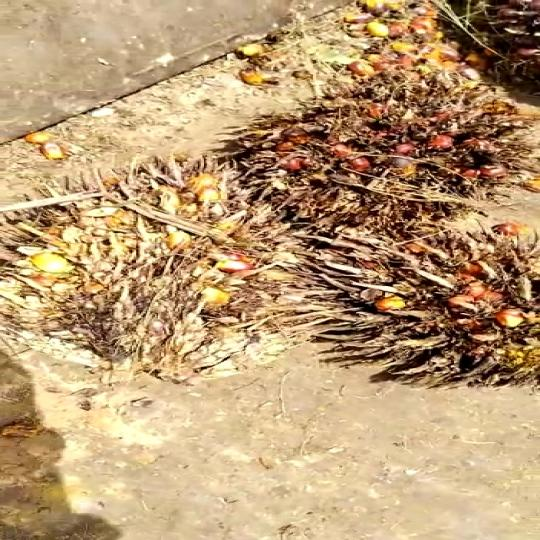terlalu masak: (0, 159, 311, 385), (216, 68, 540, 239), (287, 216, 540, 386)
